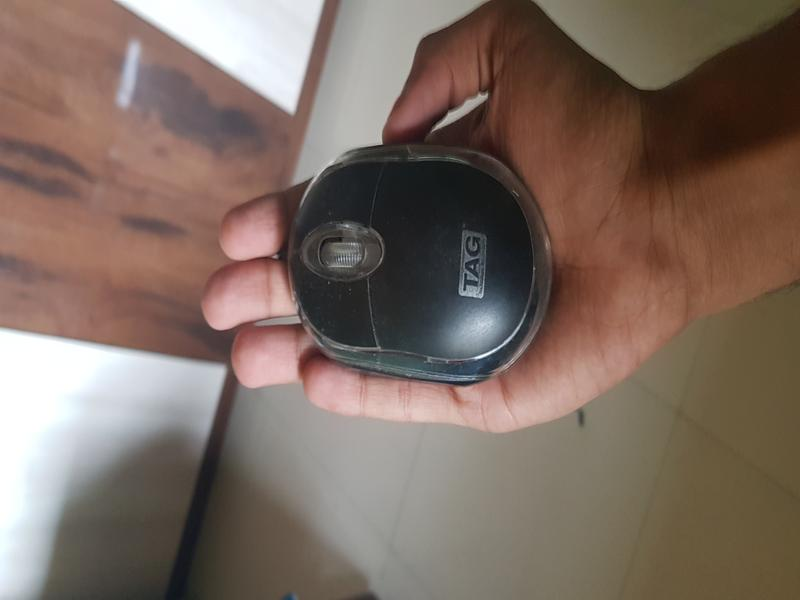mouse: (275, 137, 550, 403)
